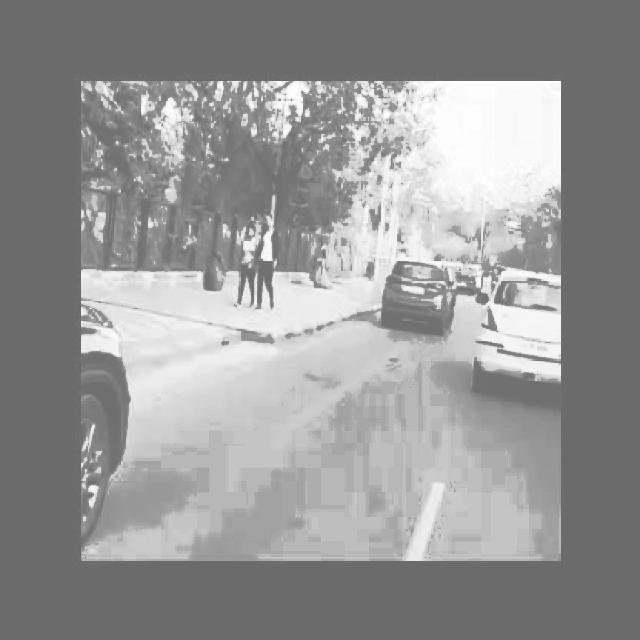Car: (474, 262, 561, 411), (380, 246, 460, 348)
